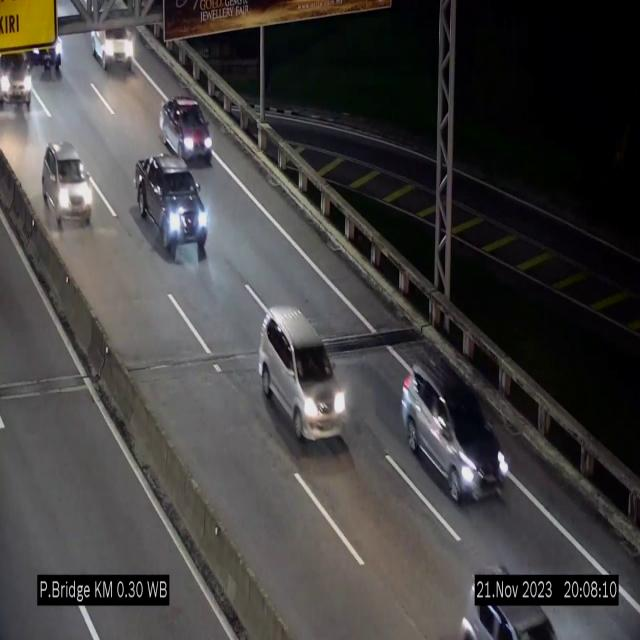Car: (401, 353, 514, 512), (258, 307, 349, 443), (449, 550, 556, 640), (134, 156, 208, 264), (38, 134, 92, 239), (156, 92, 226, 168), (82, 4, 138, 80), (0, 47, 39, 120), (23, 22, 67, 75)
